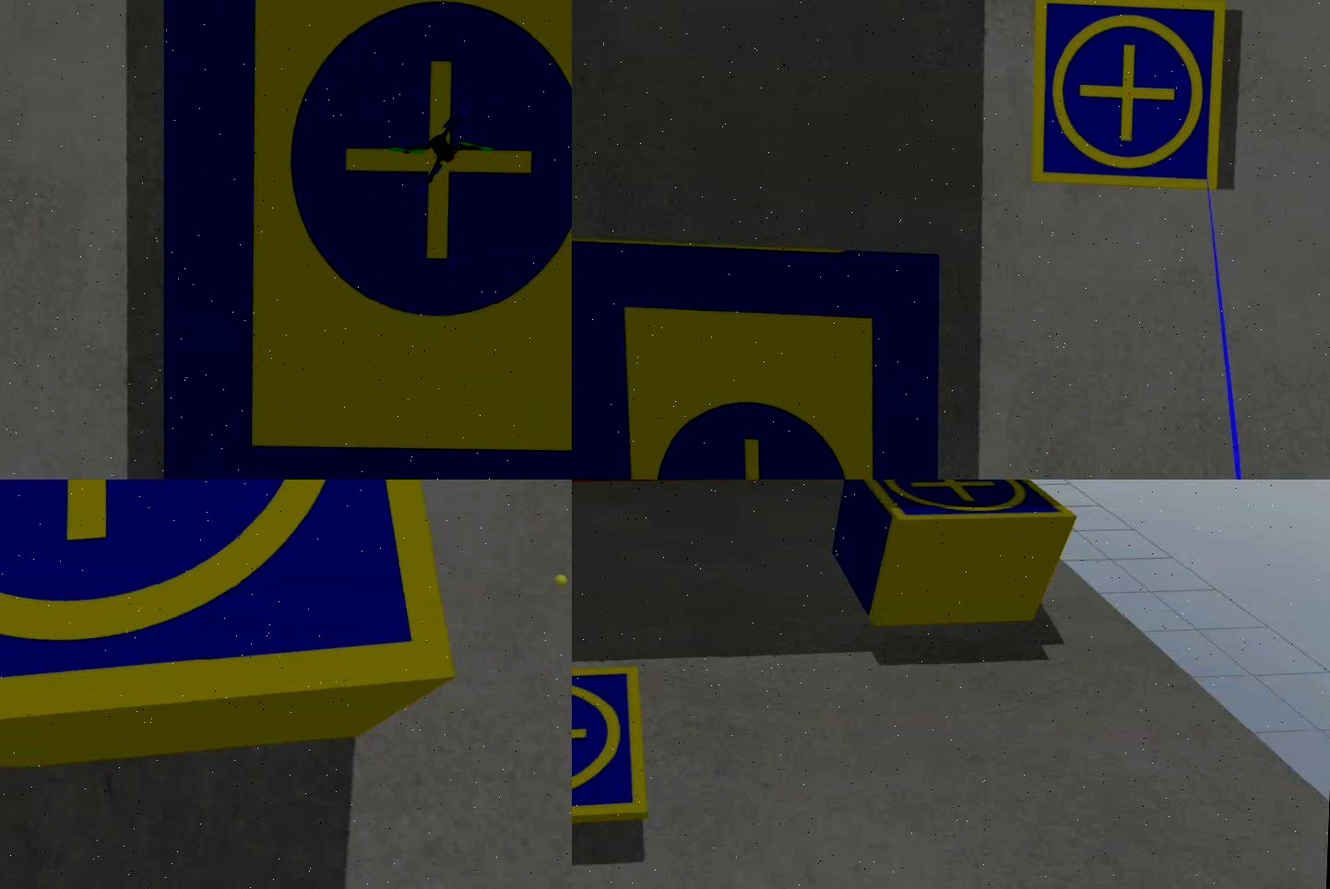large_base: (139, 1, 573, 480), (573, 236, 954, 480)
small_base: (1, 480, 485, 772), (1027, 1, 1229, 196), (573, 658, 657, 846), (845, 480, 1082, 531)
